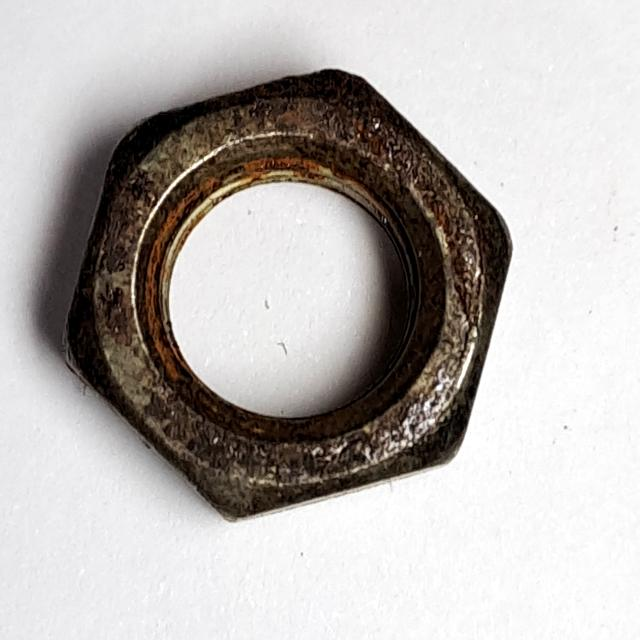Rust: (55, 53, 527, 536)
